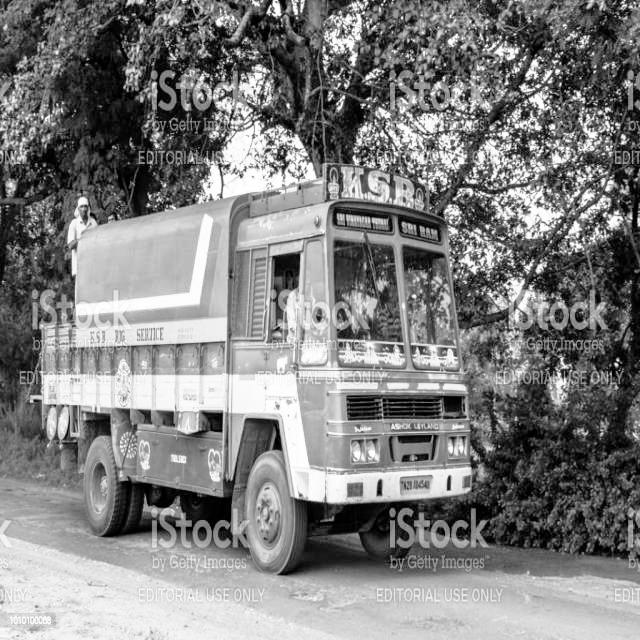HCV: (20, 167, 574, 611)
